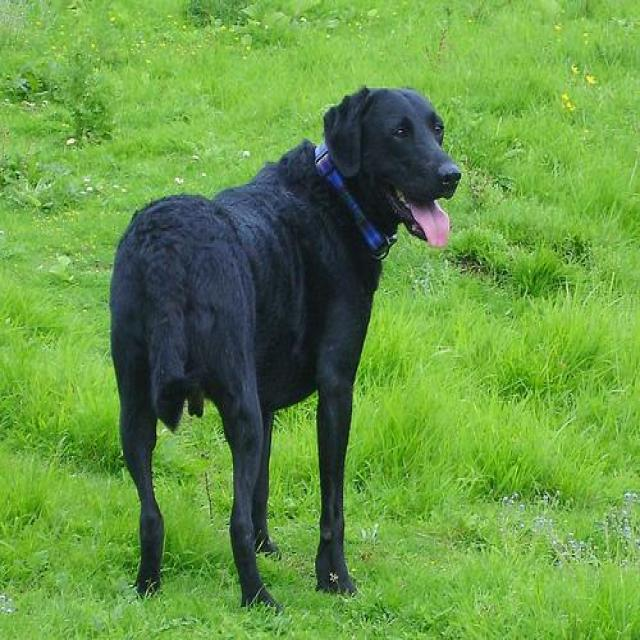dog: (81, 46, 486, 618)
